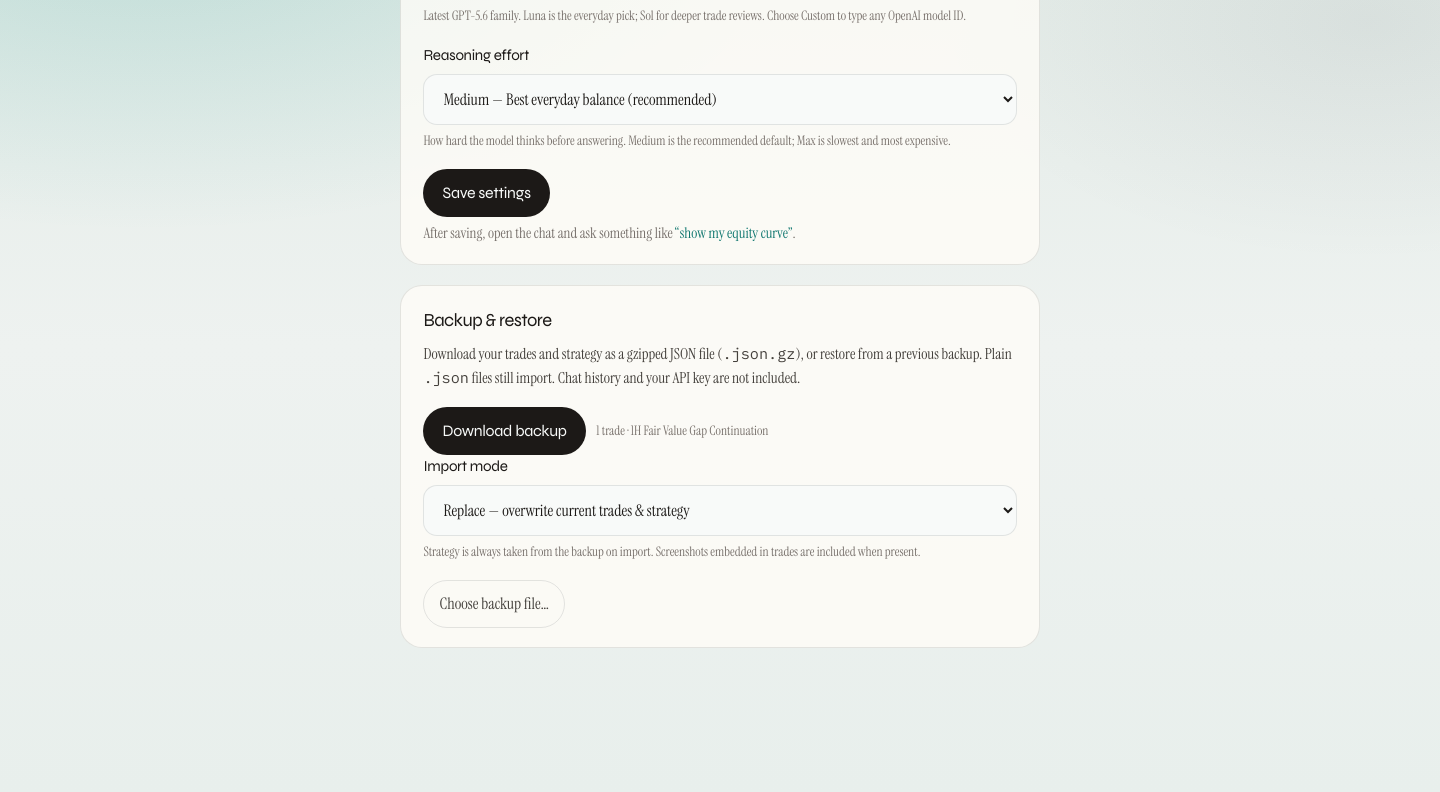
Test: SettingsPage › downloads a gzip backup
(page scrolled)
Step 1. Click the button "Download backup" → (505, 431), box 423,407 -> 586,455
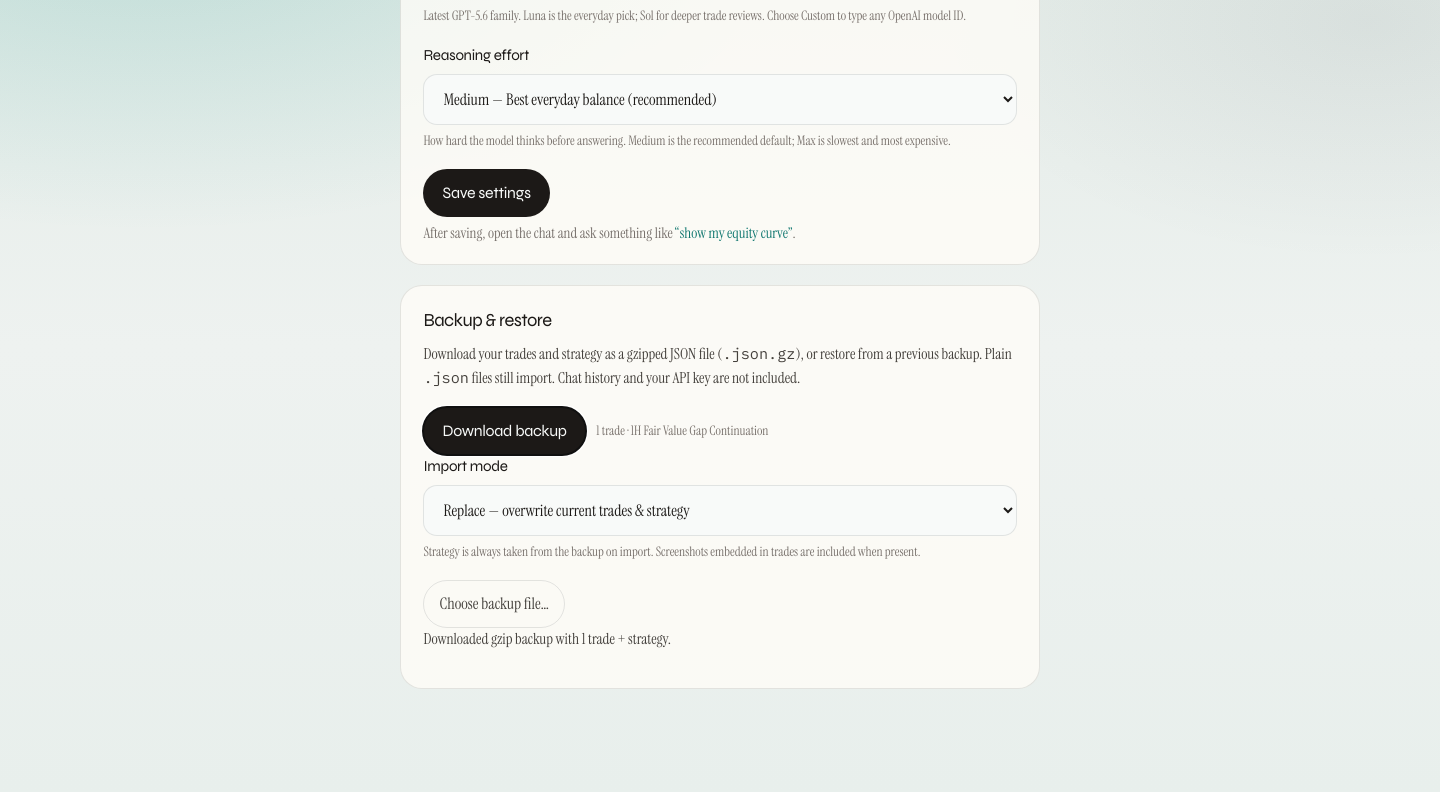
Expected: the text "Downloaded gzip backup with 1 trade + strategy." is shown, 423,629 -> 671,649
